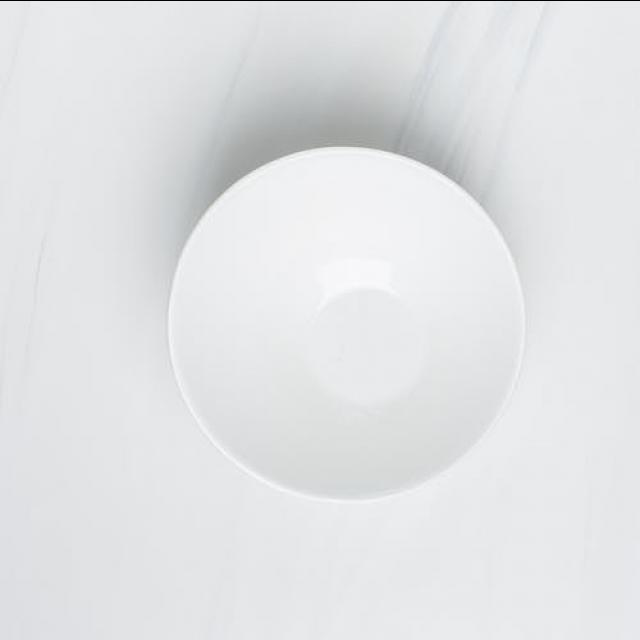plate: (128, 103, 558, 527)
